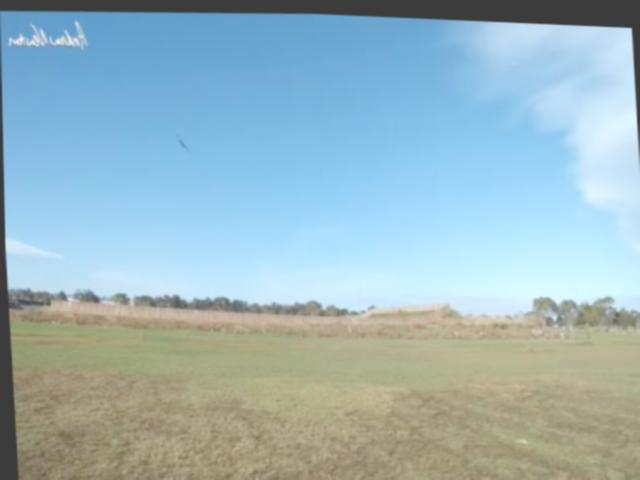uav: (170, 127, 195, 156)
